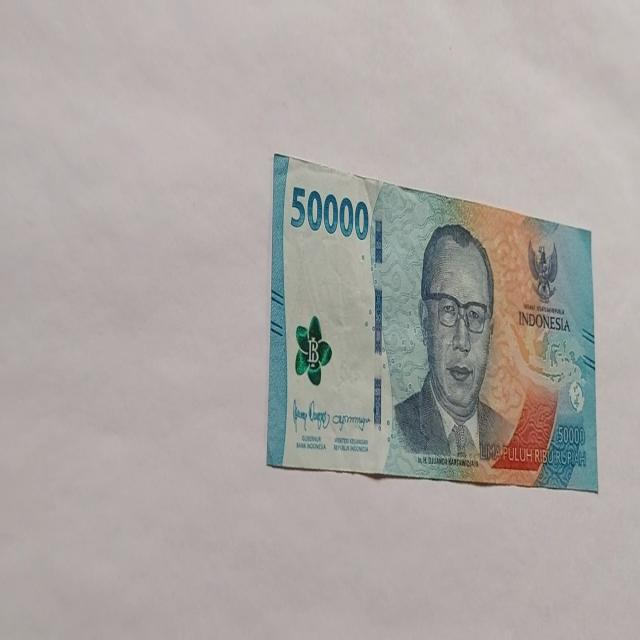lima puluh ribu rupiah: (266, 151, 598, 491), (384, 222, 516, 476), (288, 183, 369, 241)
